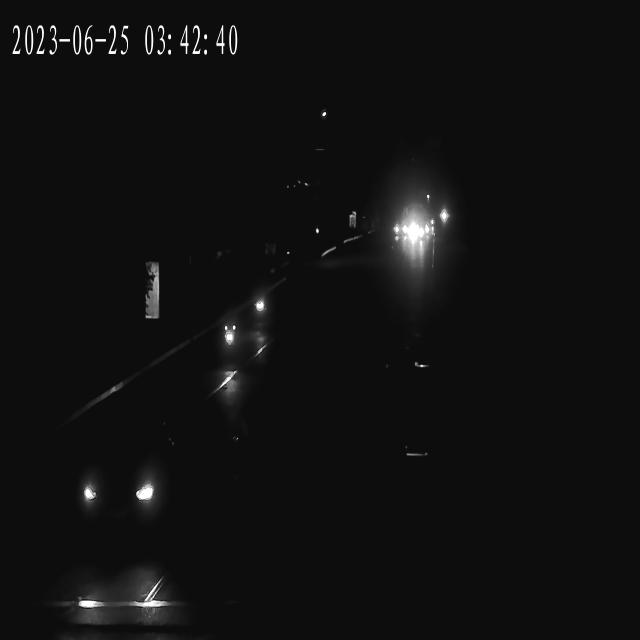Car: (68, 428, 179, 538), (219, 309, 267, 365), (236, 277, 276, 326), (408, 208, 422, 239), (402, 234, 426, 250), (418, 220, 438, 234), (392, 217, 406, 236)
